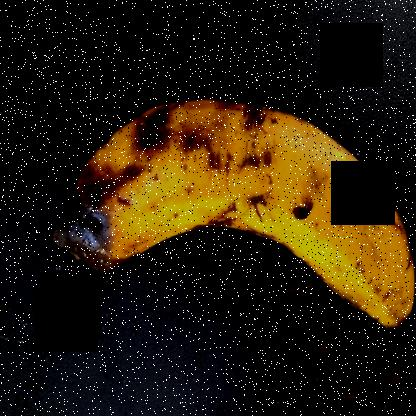overripe: (154, 78, 414, 336)
rotten: (46, 98, 191, 295)
